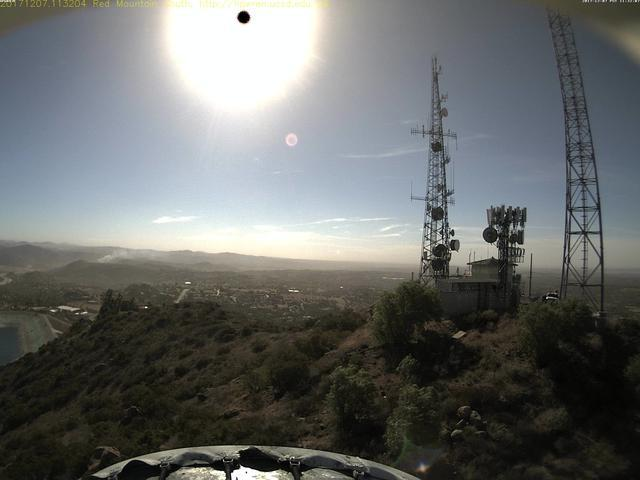smoke: (98, 236, 164, 268)
